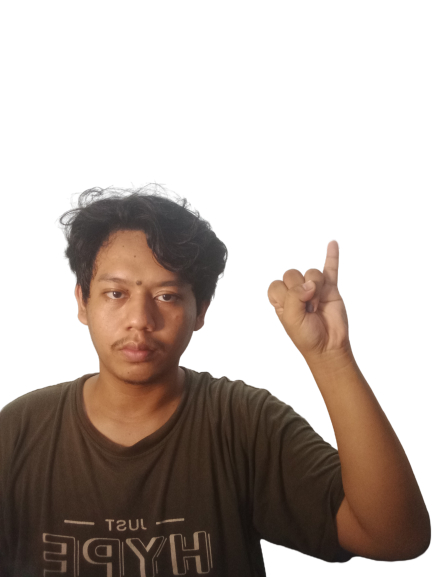I: (264, 238, 357, 354)
